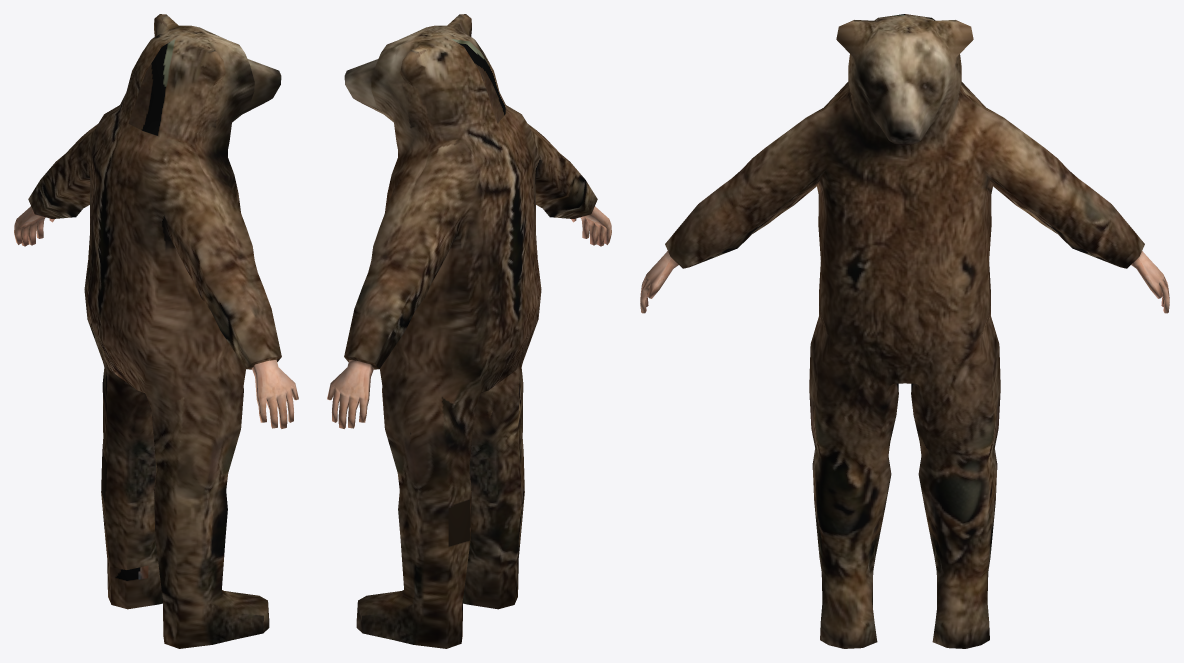
File: Character_Killer_10.fbx
The picture shows the model from 3 angles, left to right: view 1: azimuth 30°, elevation 25°; view 2: azimuth 150°, elevation 25°; view 3: azimuth 270°, elevation 25°; orthographic projection. The views are drawn at different scales.
Visible parts, largest first — view 1: Character_Killer_10.001; view 2: Character_Killer_10.001; view 3: Character_Killer_10.001.
Boxes of the visible parts, <box> form: Character_Killer_10.001: <box>14,14,298,648</box>; Character_Killer_10.001: <box>327,14,611,648</box>; Character_Killer_10.001: <box>640,14,1169,648</box>.
Bounding box in the file's own units: 0.5606 × 1.77 × 1.4.
